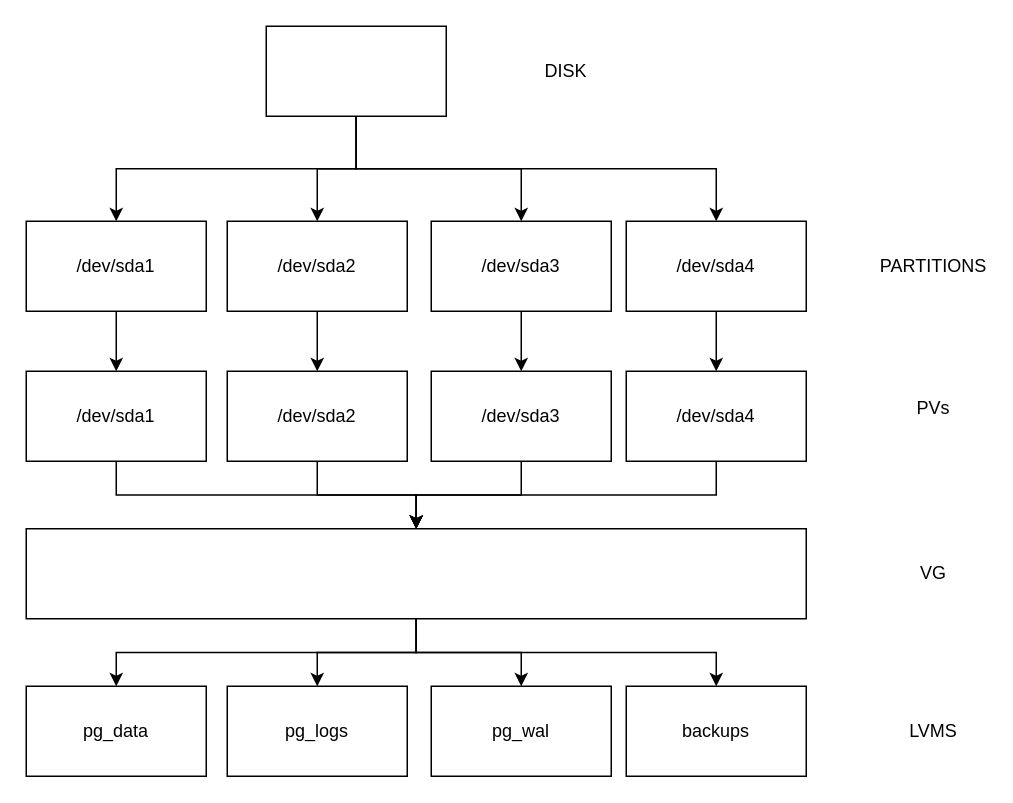
Image size: 1013x803. Some labels were removed from this diagram. The shapes that lost their labels are listed below. From the top down, each one's centre as x and y in pixels, then its label:
At point (355, 70): "/dev/sda".
At point (415, 573): "vg01".
